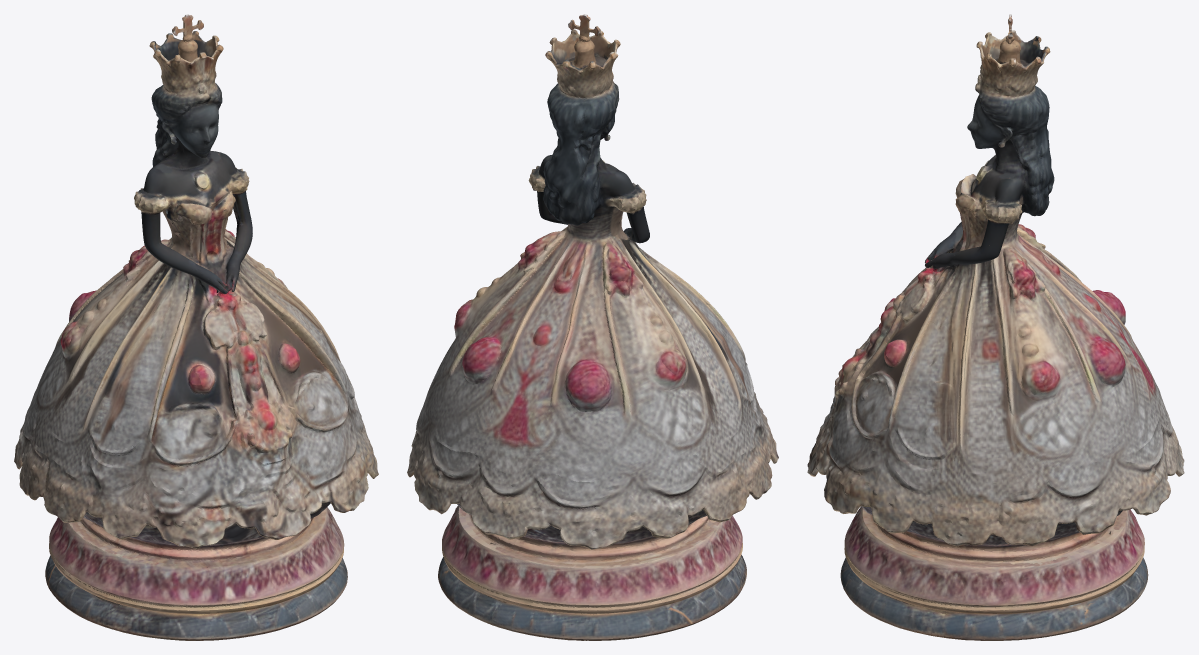
Rendered from queen_black.glb.
3 views of the same model, side by side, from view 1: azimuth 30°, elevation 25°; view 2: azimuth 150°, elevation 25°; view 3: azimuth 270°, elevation 25° (orthographic). The views are drawn at different scales.
Visible parts, largest first — view 1: model; view 2: model; view 3: model.
Part boxes in pixels (x1,y1,x2,y2): model: [14, 14, 378, 640]; model: [407, 14, 778, 640]; model: [807, 14, 1184, 640].
Bounding box in the file's own units: 1.12 × 1.9 × 1.15.
1 material, 1 textured.
